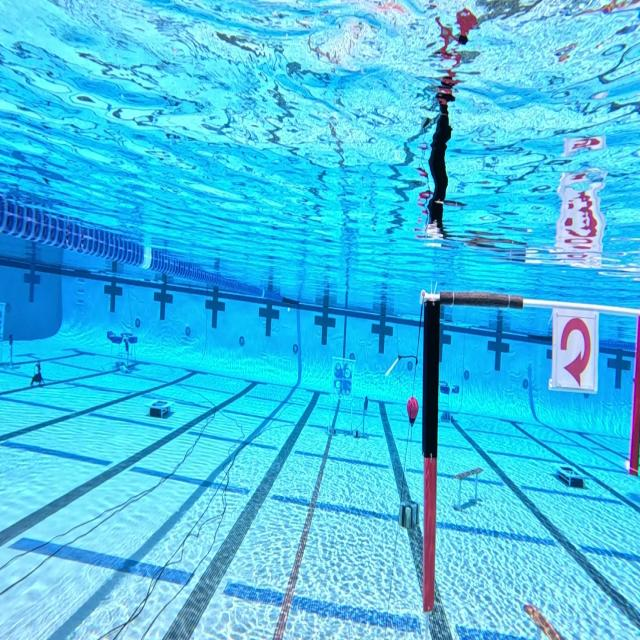red_side: (551, 301, 600, 392)
